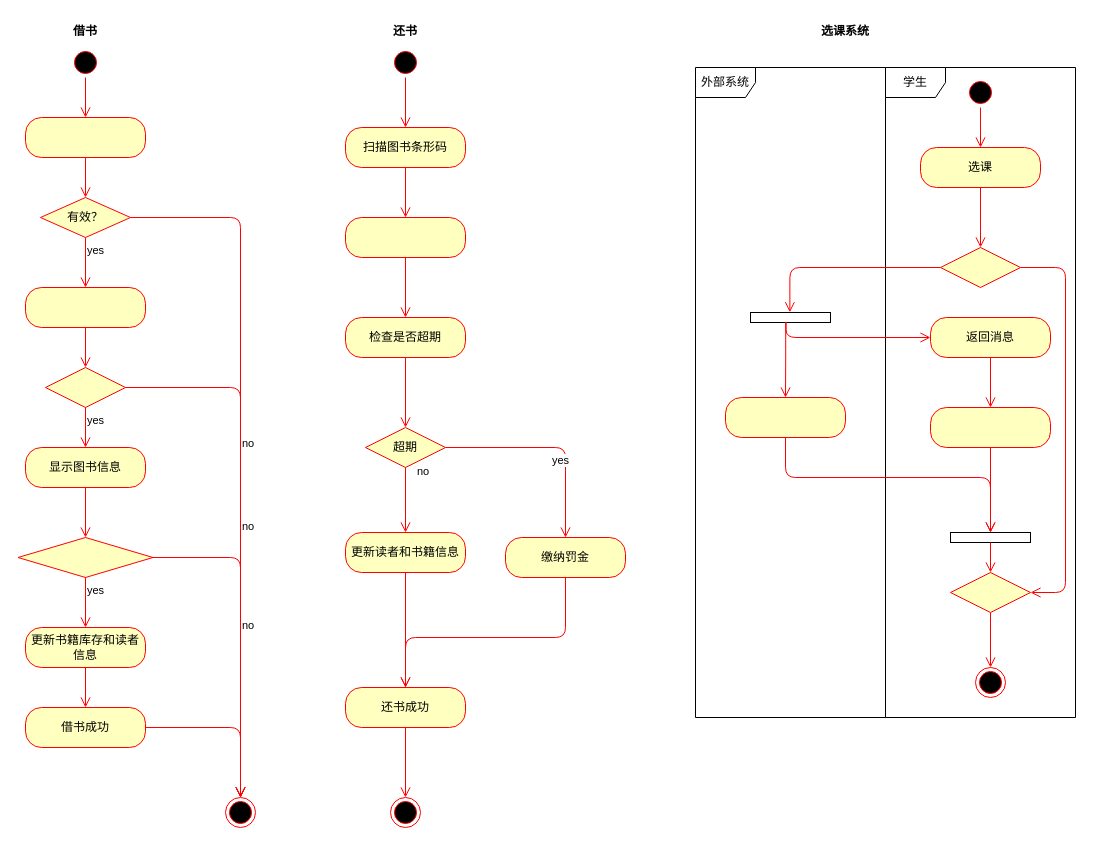
The diagram is 1093 pixels wide and 845 high, and some of its shapes have lost their labels. Here are the shapes that lost their labels. From the top down, the centre of each, then its label:
At point (85, 137): "检查借阅证".
At point (405, 237): "显示图书编号".
At point (85, 307): "检查未还图书信息".
At point (85, 387): "无未还图书".
At point (785, 417): "存入数据到外部系统".
At point (990, 427): "页面刷新".
At point (85, 557): "检查图书是否可外借".
